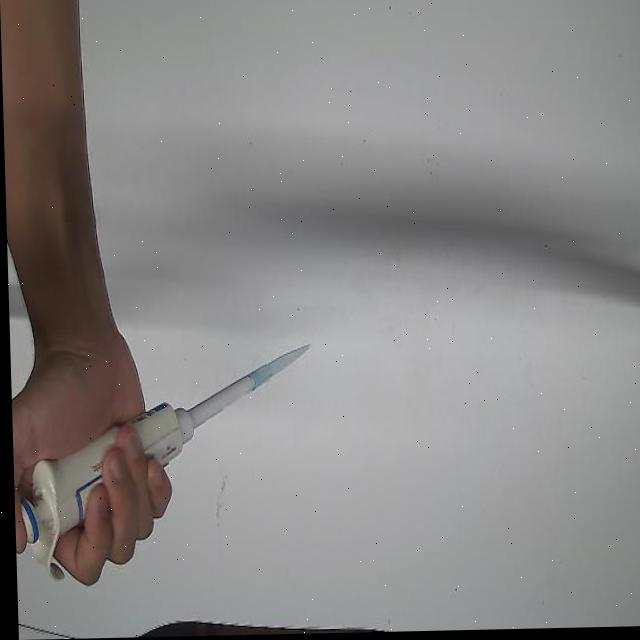Single Channel Pipettor: (12, 362, 275, 581)
